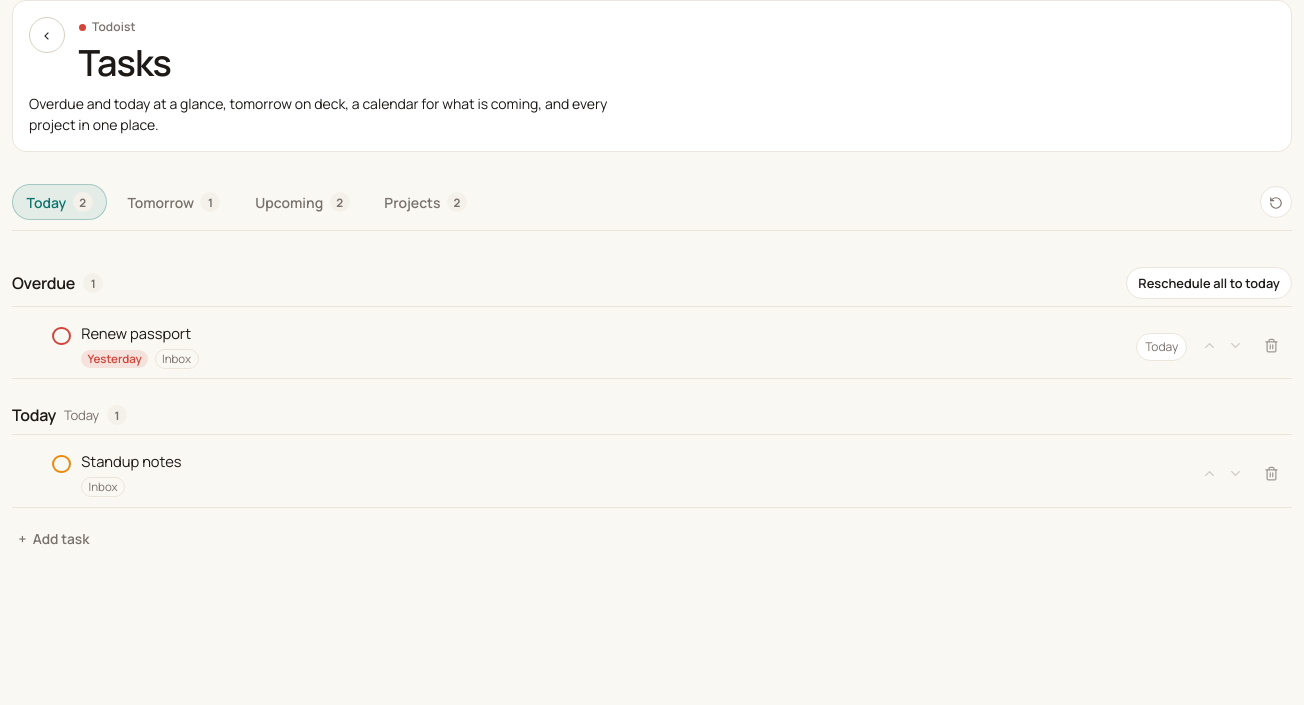
Test case: TasksPage › groups tasks by project on the Projects view
Expected: the text "Standup notes" is shown, [81,451,182,471]
Click the button "Projects 2": (426, 202) [370,184,482,220]
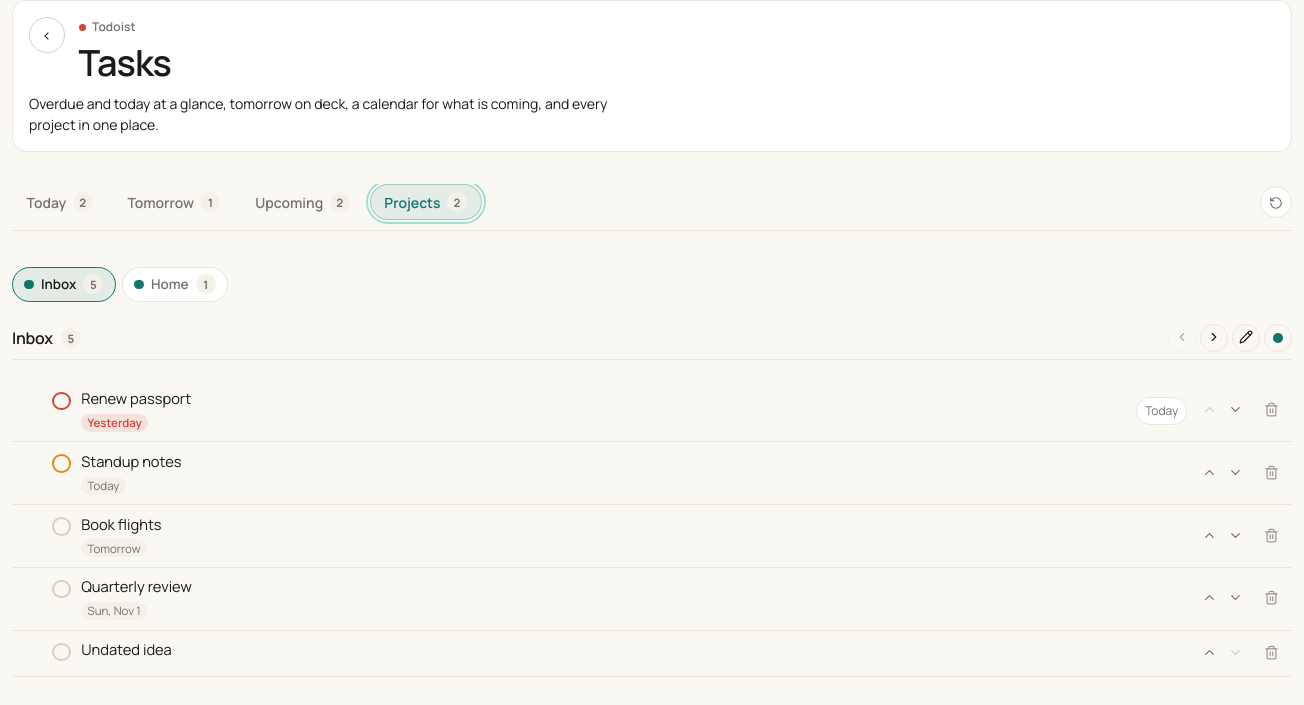
Expected: the text "Water plants" is not shown
Expected: the text "Undated idea" is shown, [81,639,172,659]
Click the button "Home 1": (175, 284) [122,267,228,302]
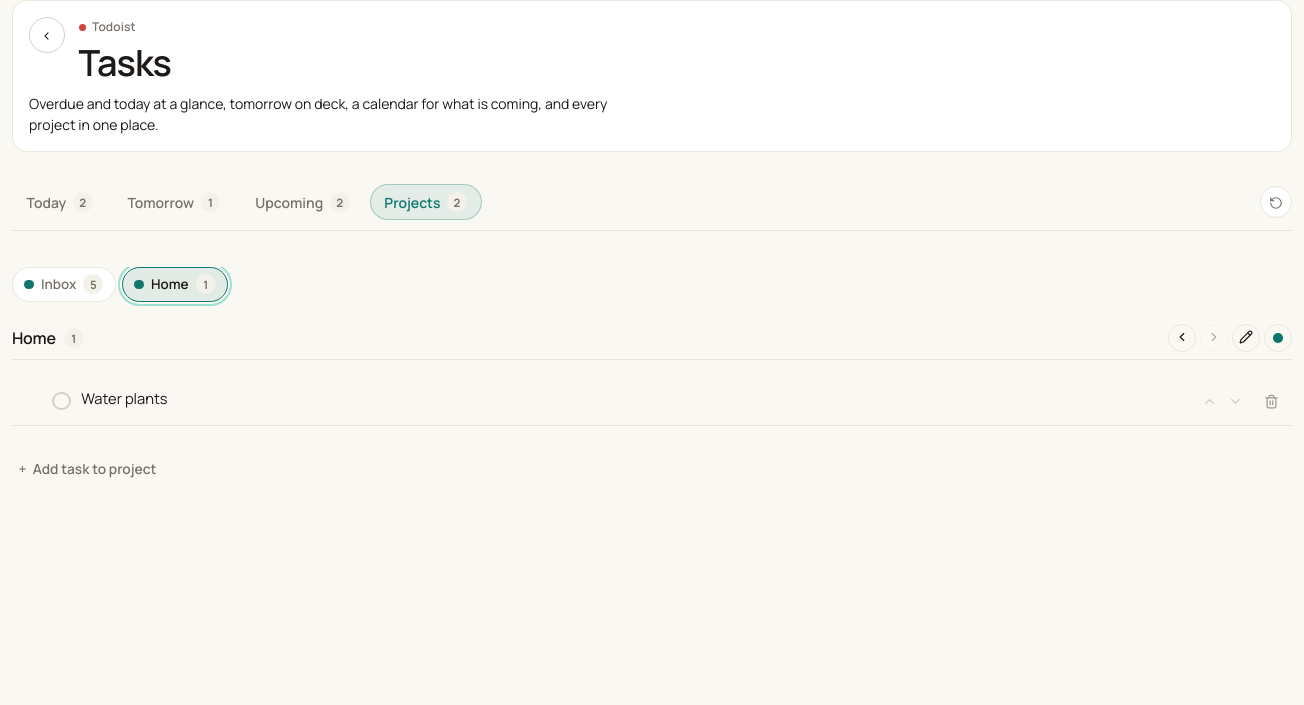
Expected: the text "Water plants" is shown, [81,388,168,408]
Expected: the button "Undated idea" is gone
